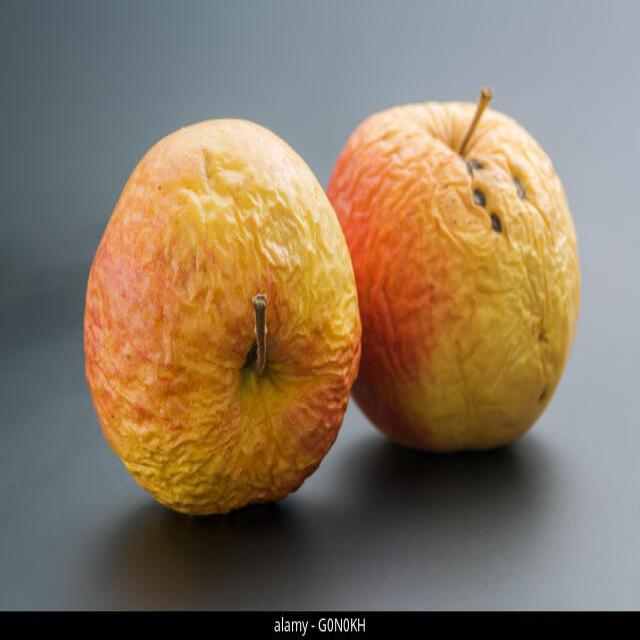overripe: (81, 116, 362, 519), (330, 98, 581, 451)
